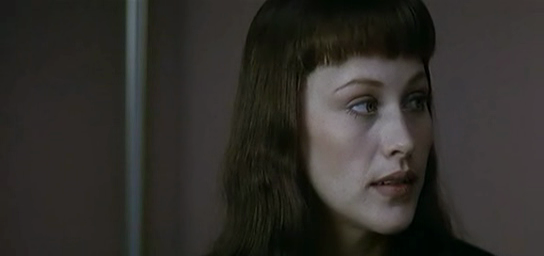cu: (1, 1, 544, 256)
face: (313, 51, 431, 237)
person: (204, 1, 496, 256)
